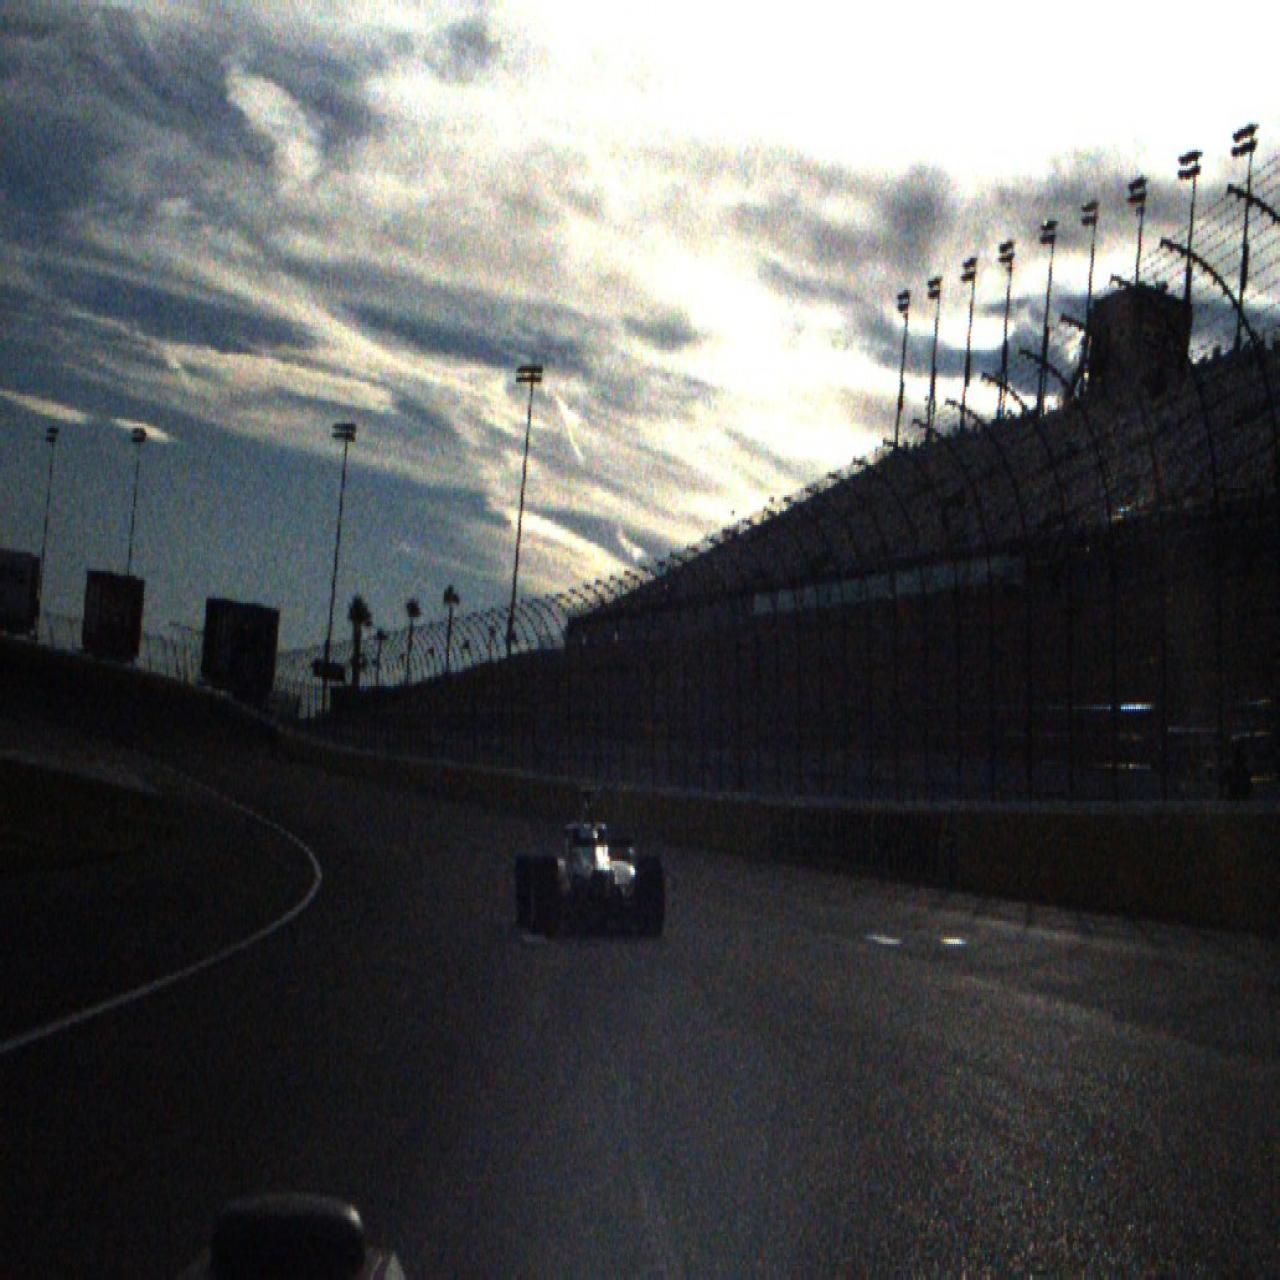AV: (515, 785, 666, 941)
Wheel: (639, 856, 666, 940), (529, 858, 557, 935), (515, 855, 535, 928)
